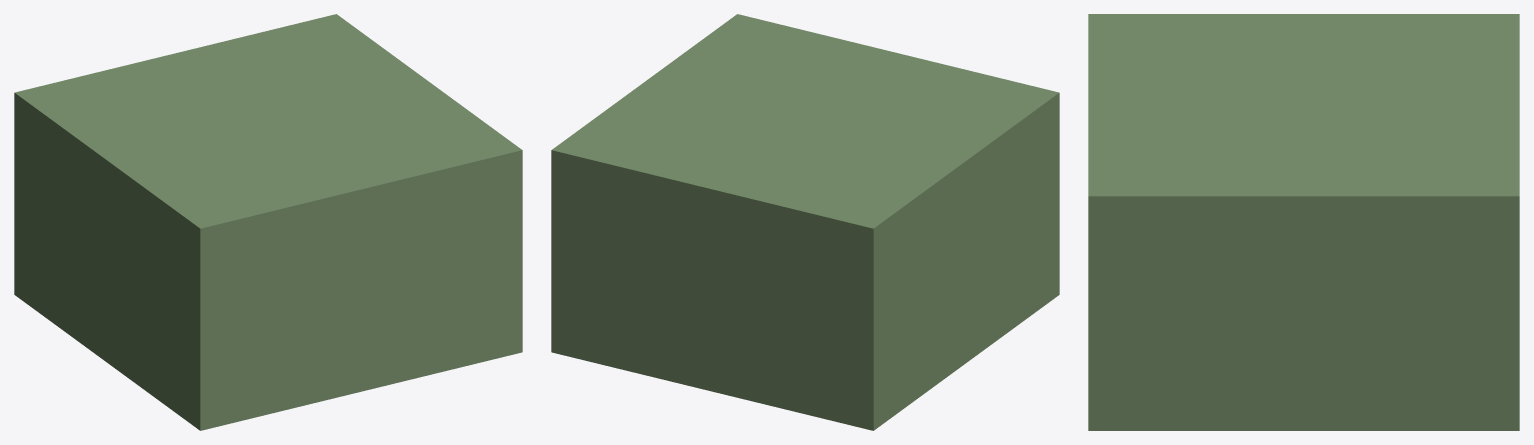
File: shrub_v0_far.gltf
3 renders of one model, left to right at view 1: azimuth 30°, elevation 25°; view 2: azimuth 150°, elevation 25°; view 3: azimuth 270°, elevation 25°, orthographic. The views are drawn at different scales.
Parts seen in each view (by area): view 1: cover; view 2: cover; view 3: cover.
Boxes of the visible parts, bbox=[...] form: cover: bbox=[14, 14, 522, 430]; cover: bbox=[551, 14, 1059, 430]; cover: bbox=[1088, 14, 1519, 430].
Bounding box in the file's own units: 0.5413 × 0.3248 × 0.5413.
